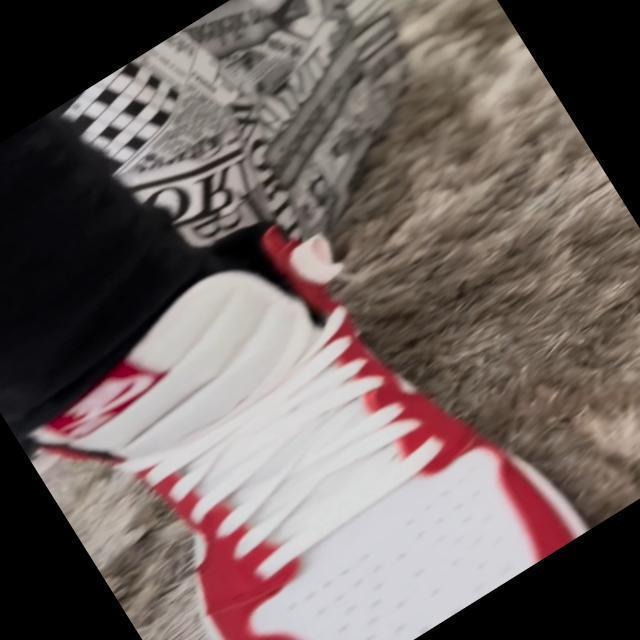nike fake jordan 1: (5, 161, 580, 640)
